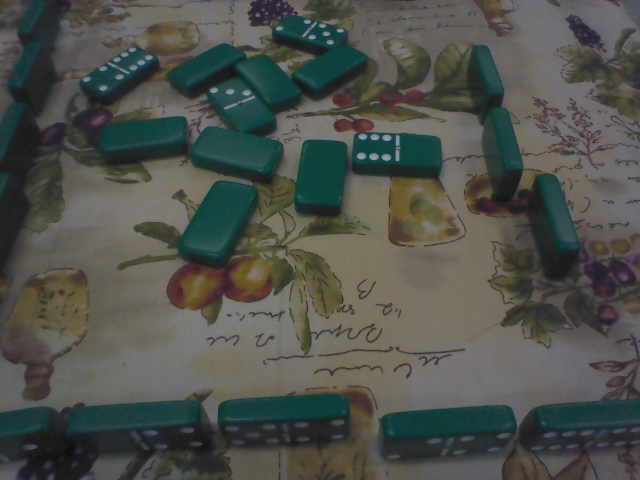A: (179, 175, 252, 266), (189, 123, 287, 180), (295, 34, 373, 104), (97, 113, 192, 163), (231, 49, 304, 112), (165, 35, 242, 94), (294, 136, 349, 217)
B: (77, 37, 161, 107), (349, 123, 450, 181), (203, 70, 285, 135), (262, 10, 351, 55)
C: (1, 169, 34, 280), (10, 44, 60, 110), (2, 103, 40, 181), (18, 1, 68, 48)
D: (524, 172, 585, 283), (472, 106, 529, 207), (459, 45, 516, 122)
E: (370, 394, 519, 461), (64, 398, 209, 460), (521, 393, 640, 458), (214, 396, 359, 446), (1, 404, 62, 465)
